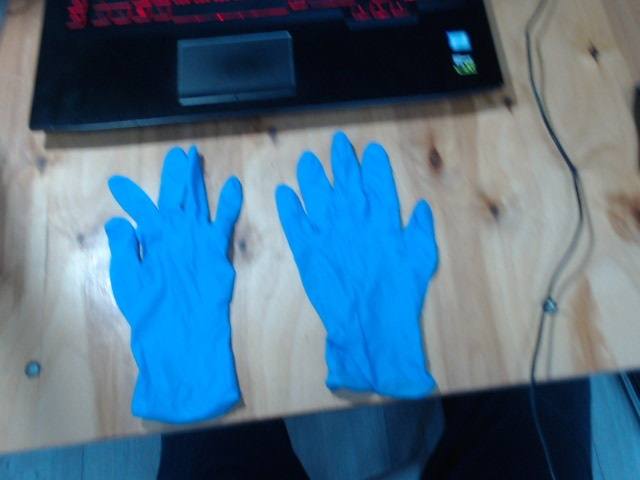medical_glove: (276, 131, 438, 399), (105, 146, 243, 418)
